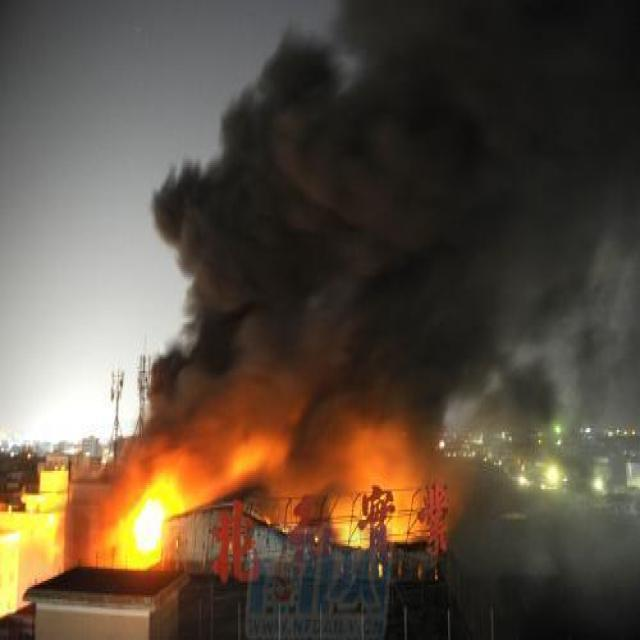Fire: (110, 466, 190, 572)
Smoke: (116, 0, 640, 449)
